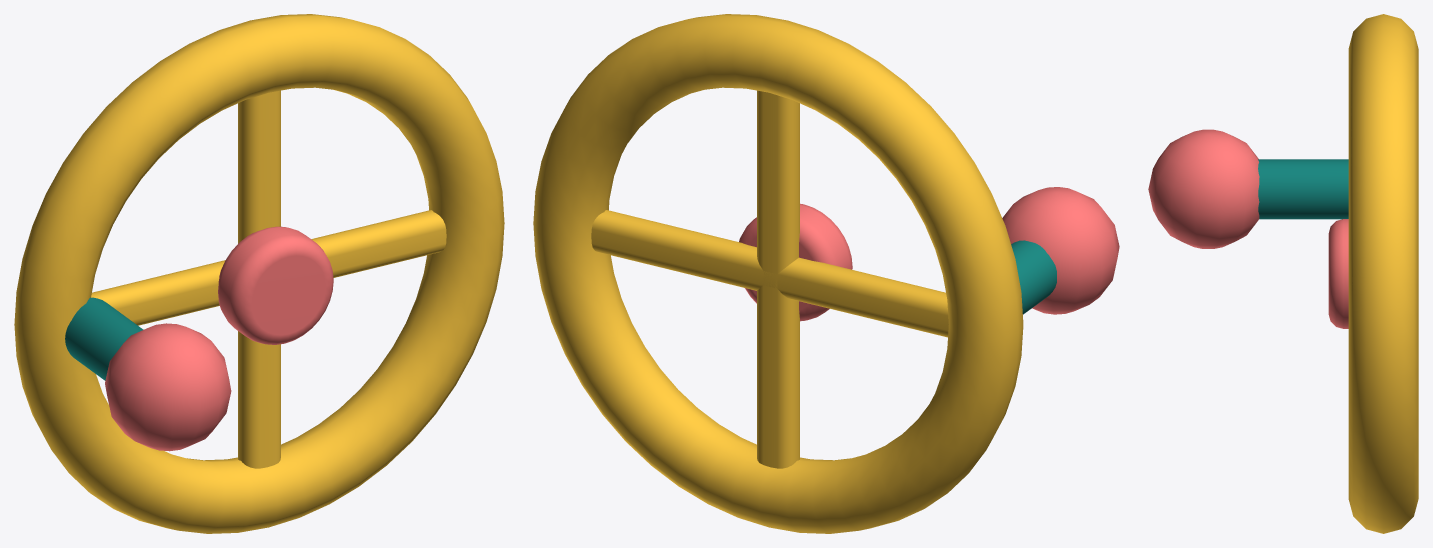
Rendered from PumpHandWheel.fbx.
3 renders of one model, left to right at view 1: azimuth 30°, elevation 25°; view 2: azimuth 150°, elevation 25°; view 3: azimuth 270°, elevation 25°, orthographic. The views are drawn at different scales.
Visible parts, largest first — view 1: PumpHandWheel mesh; view 2: PumpHandWheel mesh; view 3: PumpHandWheel mesh.
Boxes of the visible parts, x1,y1,x2,y2 form: PumpHandWheel mesh: (14, 14, 504, 533); PumpHandWheel mesh: (533, 14, 1119, 533); PumpHandWheel mesh: (1148, 14, 1418, 533).
Bounding box in the file's own units: 0.208 × 0.208 × 0.108.
